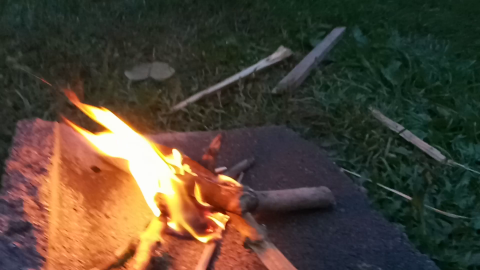fire: (51, 83, 249, 245)
